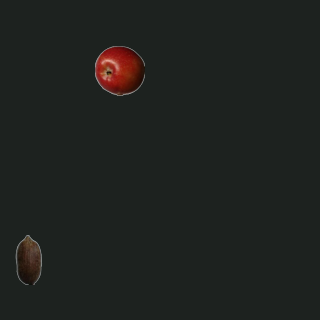Apple Braeburn: (94, 45, 144, 95)
Nut Pecan: (3, 234, 53, 284)
